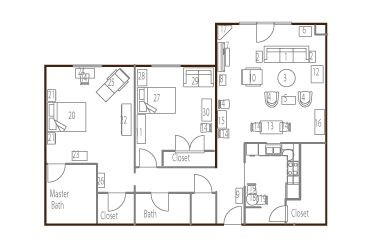door: (174, 134, 209, 152), (150, 191, 172, 213), (255, 22, 276, 43), (193, 173, 214, 193), (105, 191, 126, 211), (140, 148, 158, 167), (268, 203, 286, 222), (224, 205, 242, 223), (48, 164, 67, 181)
room: (217, 25, 323, 142), (50, 67, 131, 164), (138, 69, 213, 166), (247, 145, 326, 221), (49, 164, 94, 219), (139, 194, 216, 223)
wall: (47, 220, 225, 227), (41, 63, 48, 225), (325, 23, 328, 227), (132, 66, 137, 172), (241, 221, 328, 227), (214, 67, 217, 166), (102, 62, 151, 68), (293, 21, 328, 26), (214, 20, 218, 63), (95, 164, 98, 221), (298, 143, 301, 198), (188, 192, 193, 225), (181, 63, 216, 67), (133, 188, 137, 221), (213, 191, 217, 222), (67, 162, 97, 166), (215, 20, 239, 25), (159, 165, 217, 167), (242, 142, 247, 164), (44, 63, 71, 67), (168, 191, 192, 195), (281, 142, 324, 144), (134, 189, 150, 194), (244, 141, 267, 144), (98, 190, 107, 195), (126, 190, 134, 195)
window: (152, 61, 181, 69), (72, 62, 101, 69), (241, 18, 257, 26), (277, 20, 293, 25)
